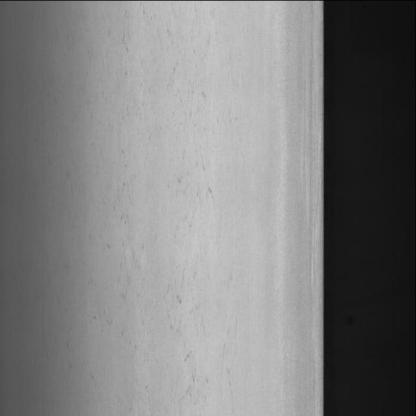silk_spot: (101, 44, 219, 358)
